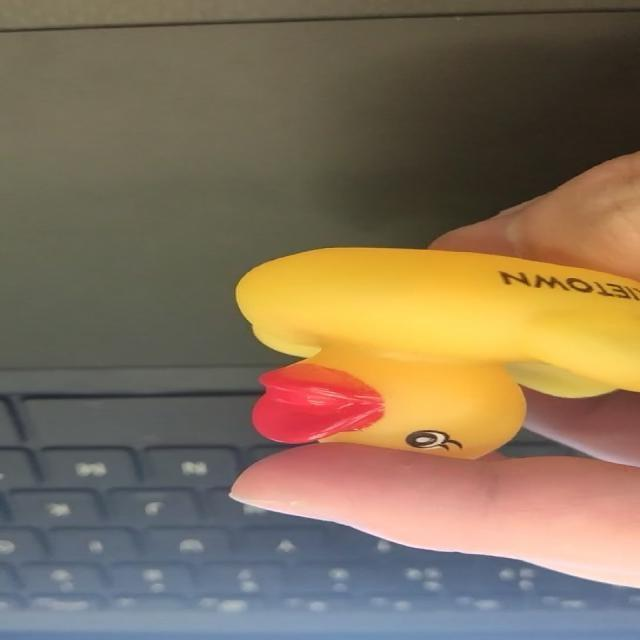rubber-duck: (235, 247, 638, 457)
